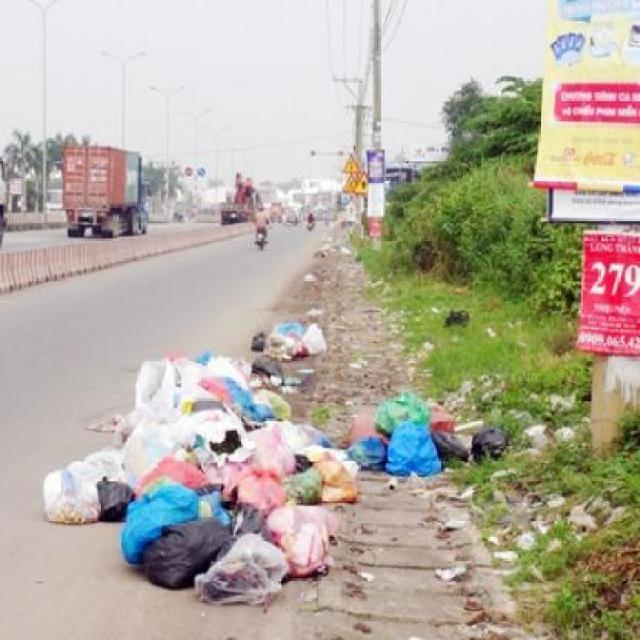plastic bag: (25, 314, 526, 604), (195, 529, 291, 603), (380, 414, 443, 492), (40, 462, 103, 532), (262, 312, 320, 358), (466, 415, 514, 460)
